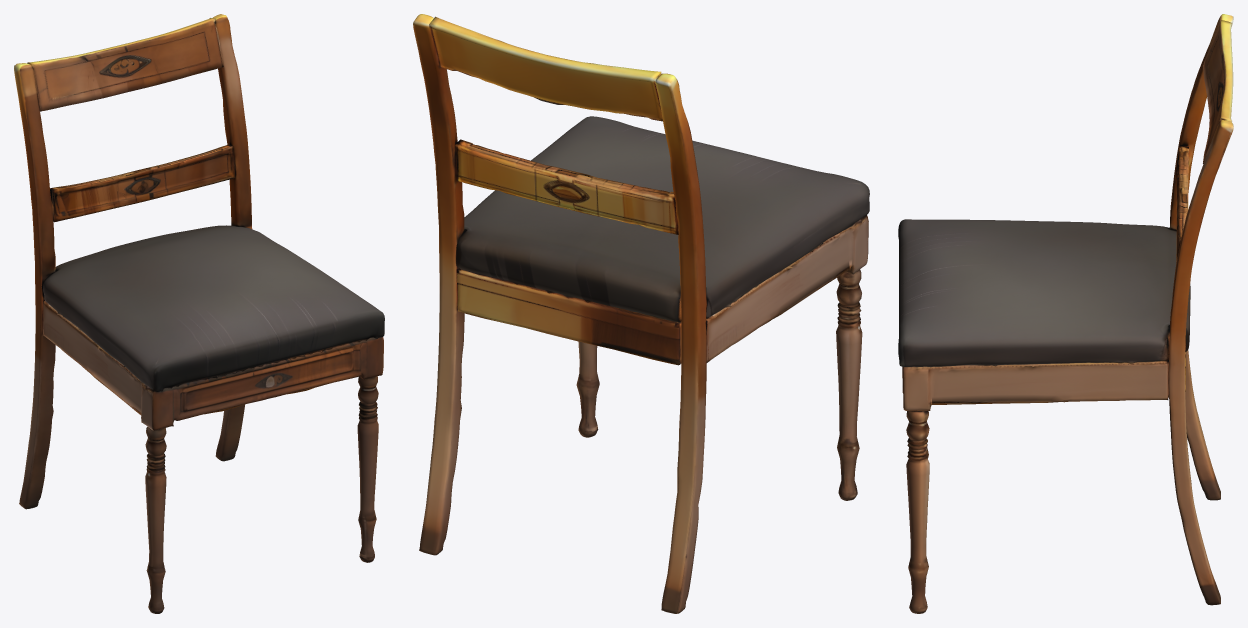
3 views of the same model, side by side, from view 1: azimuth 30°, elevation 25°; view 2: azimuth 150°, elevation 25°; view 3: azimuth 270°, elevation 25° (orthographic). The views are drawn at different scales.
Visible parts, largest first — view 1: root.1, root.0, root.4, root.2, root.5, root.3, root.6, root.7; view 2: root.1, root.0, root.2, root.3, root.4, root.5, root.6, root.7; view 3: root.1, root.0, root.3, root.7, root.2, root.4, root.5.
Boxes of the visible parts, x1,y1,x2,y2 form: root.1: [43, 225, 384, 391]; root.0: [43, 301, 383, 430]; root.4: [27, 18, 223, 111]; root.2: [14, 63, 55, 509]; root.5: [50, 144, 235, 222]; root.3: [213, 14, 252, 461]; root.6: [145, 426, 166, 613]; root.7: [357, 376, 378, 562]; root.1: [455, 116, 869, 321]; root.0: [456, 215, 868, 365]; root.2: [655, 73, 707, 613]; root.3: [413, 14, 464, 555]; root.4: [429, 16, 662, 121]; root.5: [455, 139, 678, 234]; root.6: [836, 269, 862, 500]; root.7: [576, 341, 599, 437]; root.1: [898, 219, 1190, 367]; root.0: [902, 352, 1185, 410]; root.3: [1168, 120, 1233, 605]; root.7: [906, 411, 929, 613]; root.2: [1169, 14, 1233, 500]; root.4: [1203, 20, 1233, 163]; root.5: [1175, 144, 1188, 261].
Bounding box in the file's own units: 0.4483 × 0.81 × 0.5055.
8 materials, 8 textured.
